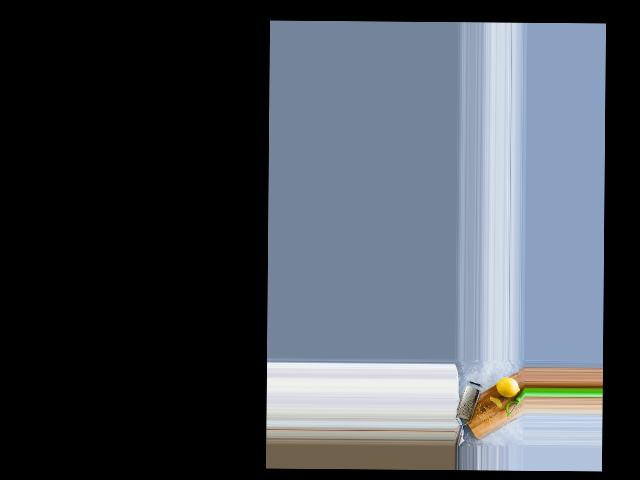lemon: (496, 376, 520, 397)
